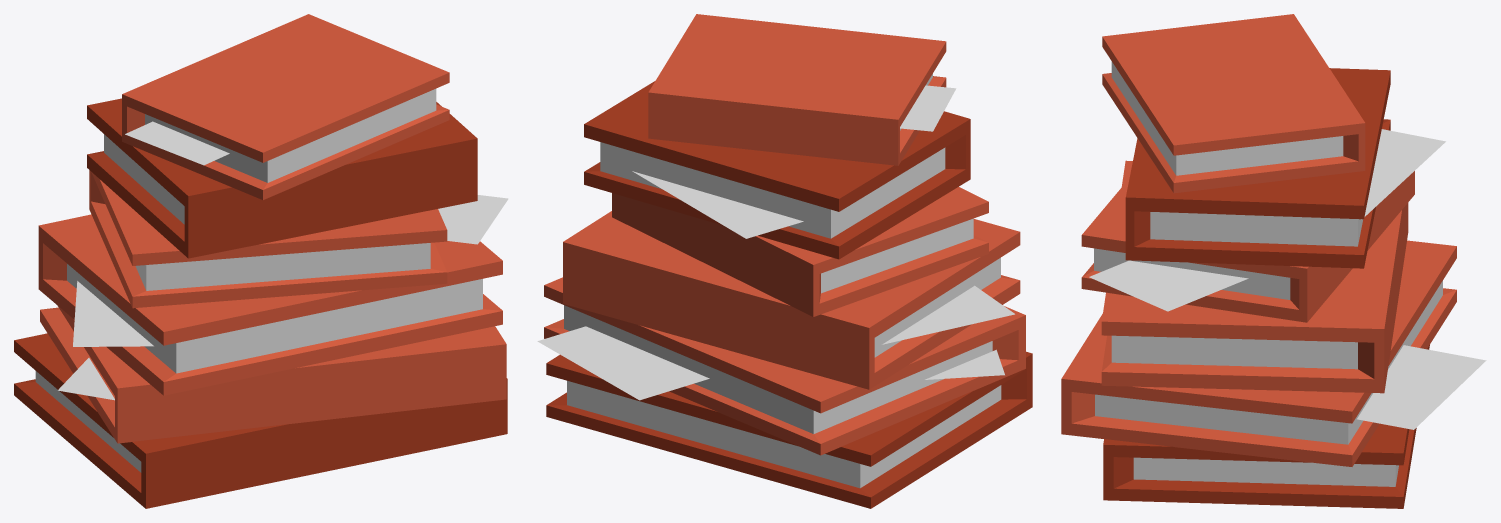
Rendered from Book_Pile_2.fbx.
The picture shows the model from 3 angles, left to right: view 1: azimuth 30°, elevation 25°; view 2: azimuth 150°, elevation 25°; view 3: azimuth 270°, elevation 25°; orthographic projection. The views are drawn at different scales.
Visible parts, largest first — view 1: Book_Pile_2; view 2: Book_Pile_2; view 3: Book_Pile_2.
Part boxes in pixels (bbox=[...]): Book_Pile_2: bbox=[14, 14, 508, 508]; Book_Pile_2: bbox=[537, 14, 1032, 508]; Book_Pile_2: bbox=[1061, 14, 1486, 508].
Bounding box in the file's own units: 0.3239 × 0.2799 × 0.2496.
